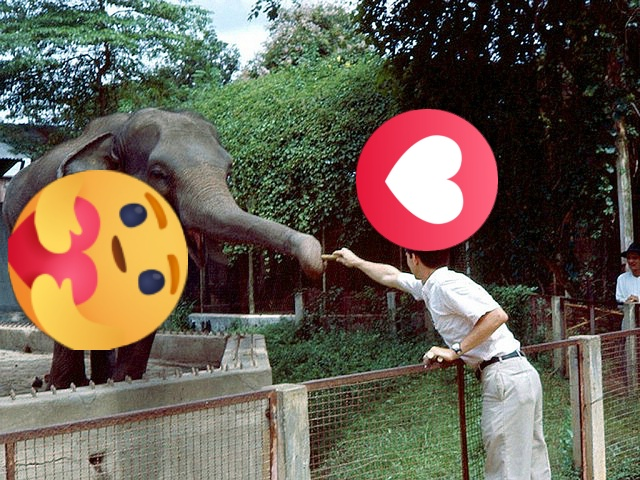care: (8, 170, 188, 350)
love: (356, 109, 498, 251)
